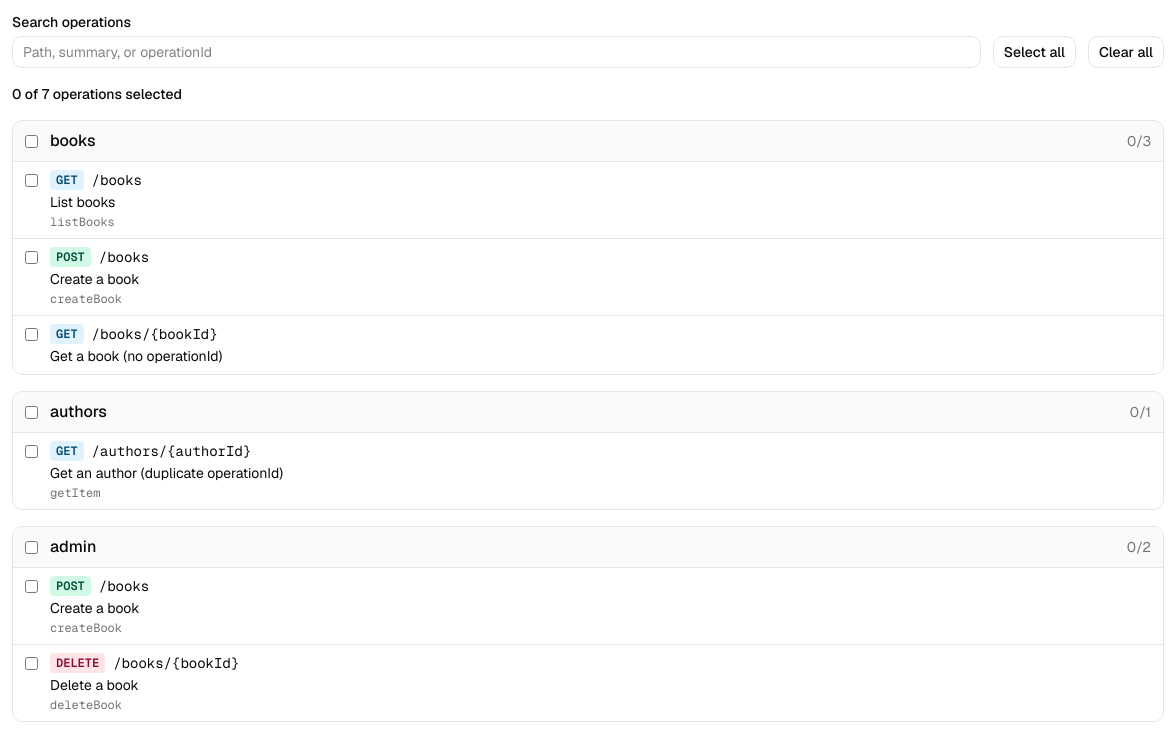
Test: OperationSelector › selects a whole group and marks overlapping groups as partly selected
The image size is (1176, 732).
Click the checkbox named "Select all in admin" at {"x": 32, "y": 547}, box [25,540,38,554]
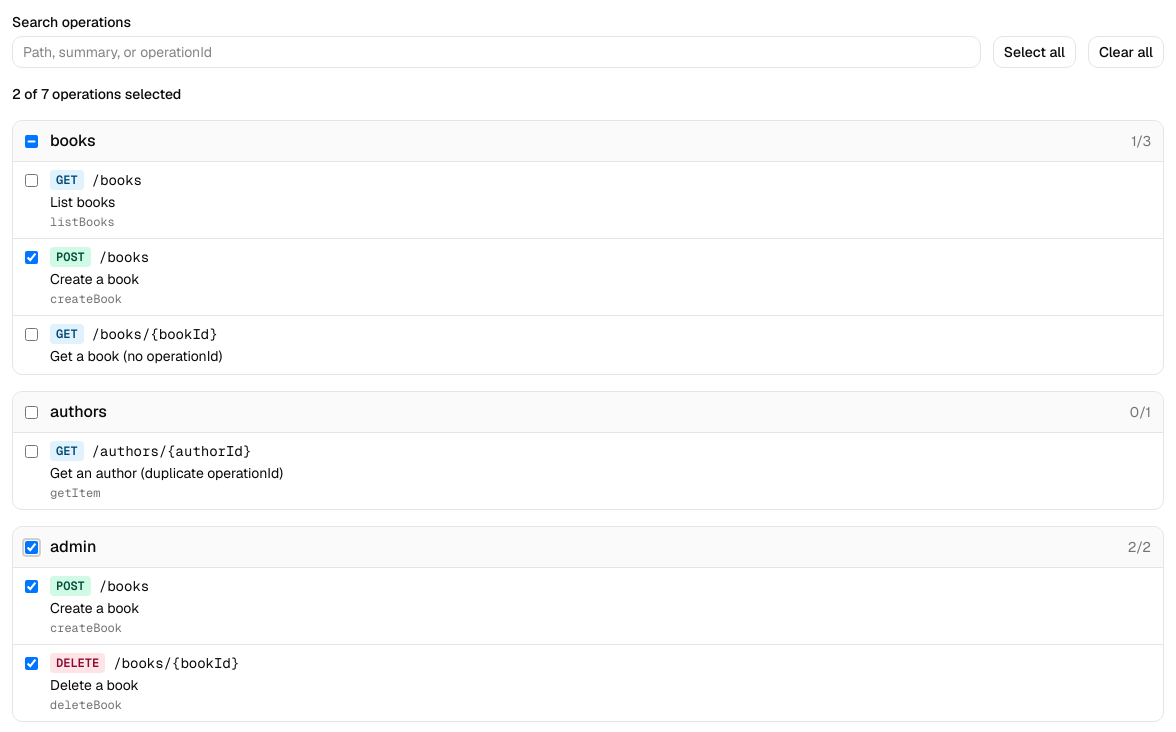
Expected: the checkbox named "Select all in books" is not checked, [25,134,38,148]
Result: the checkbox named "Select all in admin" is checked
Result: the message reads "2 of 7 operations selected" at [12,85,181,103]
Click the checkbox named "Select all in admin" at {"x": 32, "y": 547}, box [25,540,38,554]
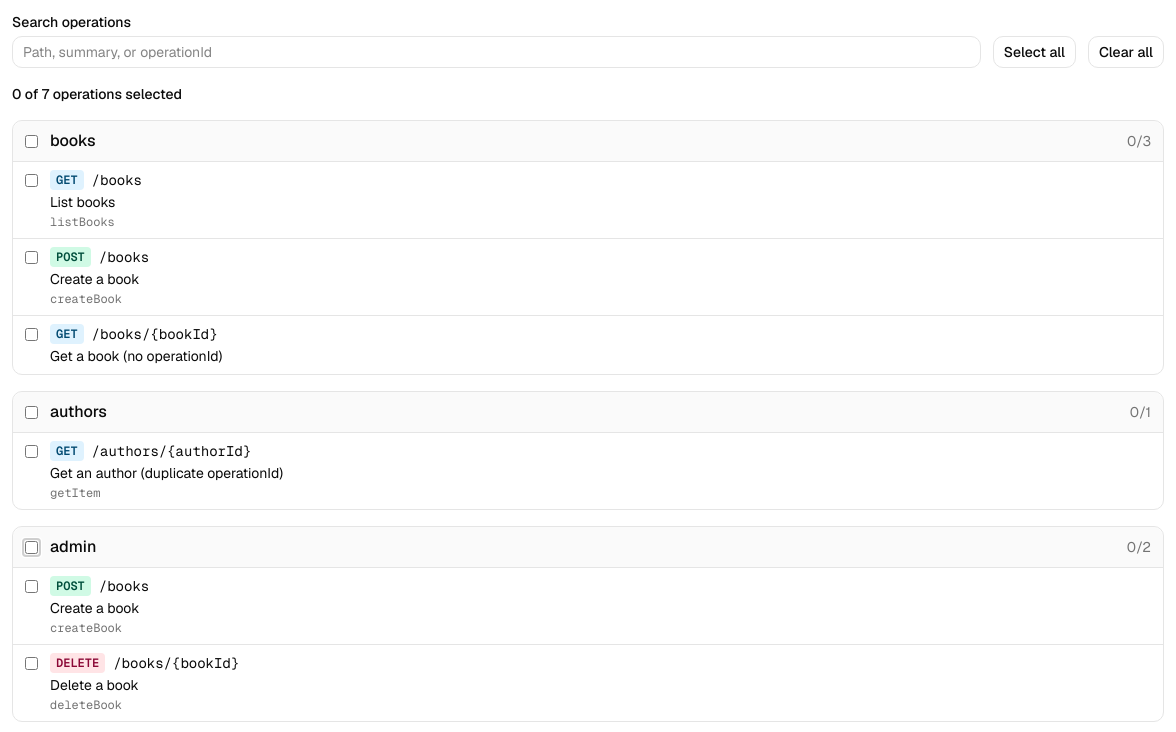
Result: the message reads "0 of 7 operations selected" at [12,85,182,103]
